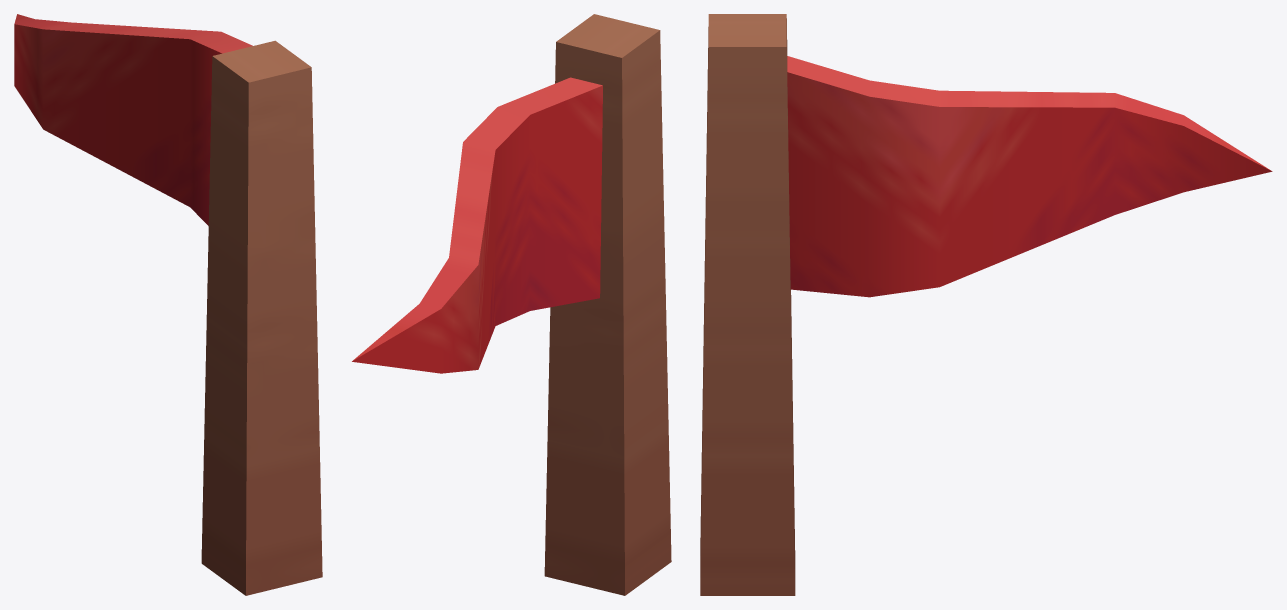
File: flag_red.glb
3 views of the same model, side by side, from view 1: azimuth 30°, elevation 25°; view 2: azimuth 150°, elevation 25°; view 3: azimuth 270°, elevation 25° (orthographic). The views are drawn at different scales.
Visible parts, largest first — view 1: flag_red; view 2: flag_red; view 3: flag_red.
Part boxes in pixels (left/top/right/bottom): flag_red: left=14, top=14, right=322, bottom=595; flag_red: left=352, top=14, right=671, bottom=595; flag_red: left=700, top=14, right=1272, bottom=595.
Size of the model in its own units: 0.055 by 0.2775 by 0.264.
1 material, 1 textured.
